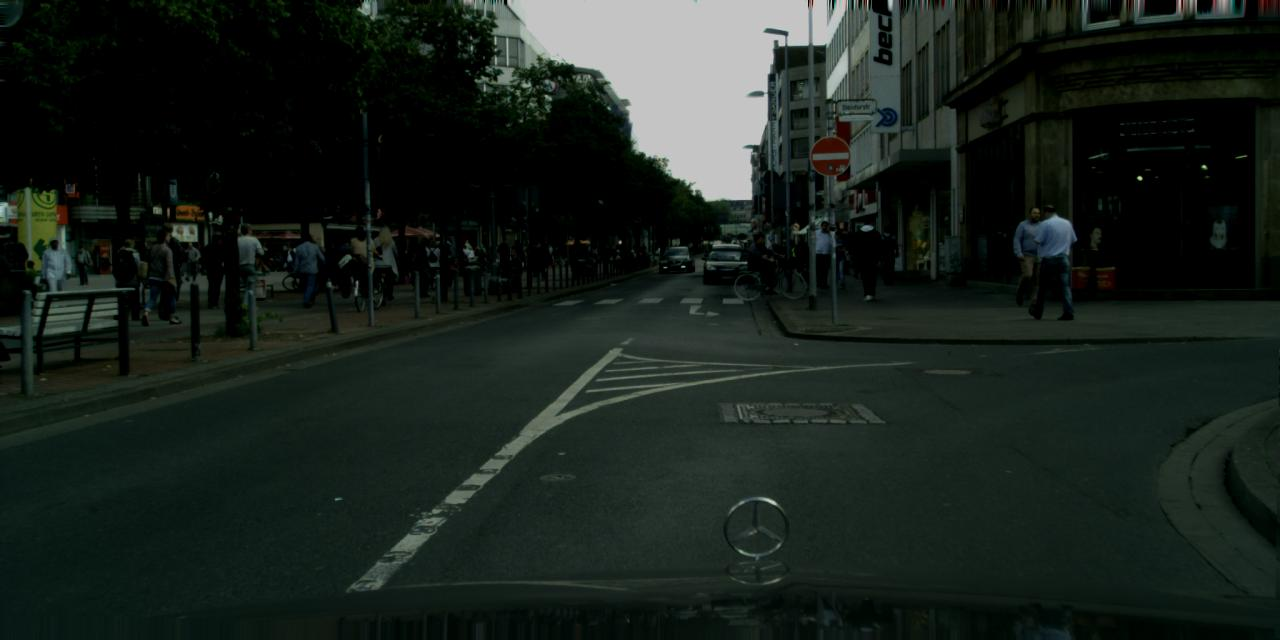ped: (1026, 203, 1072, 318), (1011, 207, 1050, 305), (147, 222, 186, 319), (142, 229, 180, 323), (230, 222, 264, 307), (852, 218, 886, 300), (112, 238, 145, 320), (369, 225, 400, 299), (348, 224, 378, 299), (292, 232, 322, 306), (41, 236, 71, 309), (201, 234, 230, 306), (0, 233, 27, 299), (810, 221, 836, 287), (333, 236, 358, 297), (412, 233, 436, 296), (876, 225, 900, 284), (827, 230, 850, 288), (302, 240, 324, 294), (751, 234, 773, 288), (434, 234, 455, 286), (423, 240, 443, 290), (319, 241, 339, 290), (404, 240, 424, 288), (834, 228, 852, 273), (463, 242, 491, 268), (74, 245, 90, 284), (23, 259, 38, 299), (182, 242, 197, 280), (528, 238, 543, 276), (496, 238, 511, 274), (568, 240, 582, 277), (510, 239, 524, 274), (537, 242, 551, 277), (607, 245, 622, 267), (284, 245, 294, 272), (554, 244, 572, 258), (593, 245, 603, 262), (545, 244, 553, 265), (580, 245, 590, 258), (640, 242, 646, 258), (626, 245, 631, 259), (633, 247, 635, 258), (646, 248, 648, 256), (640, 244, 641, 257), (646, 244, 646, 248)
